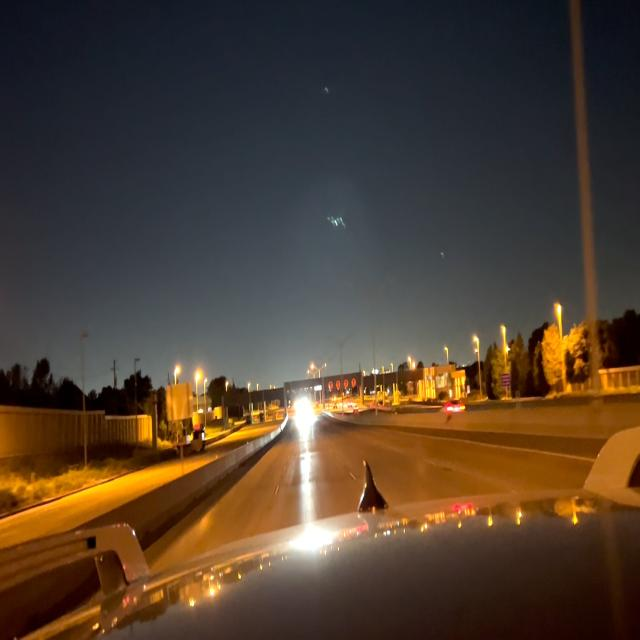back-of-sign: (167, 382, 194, 420)
